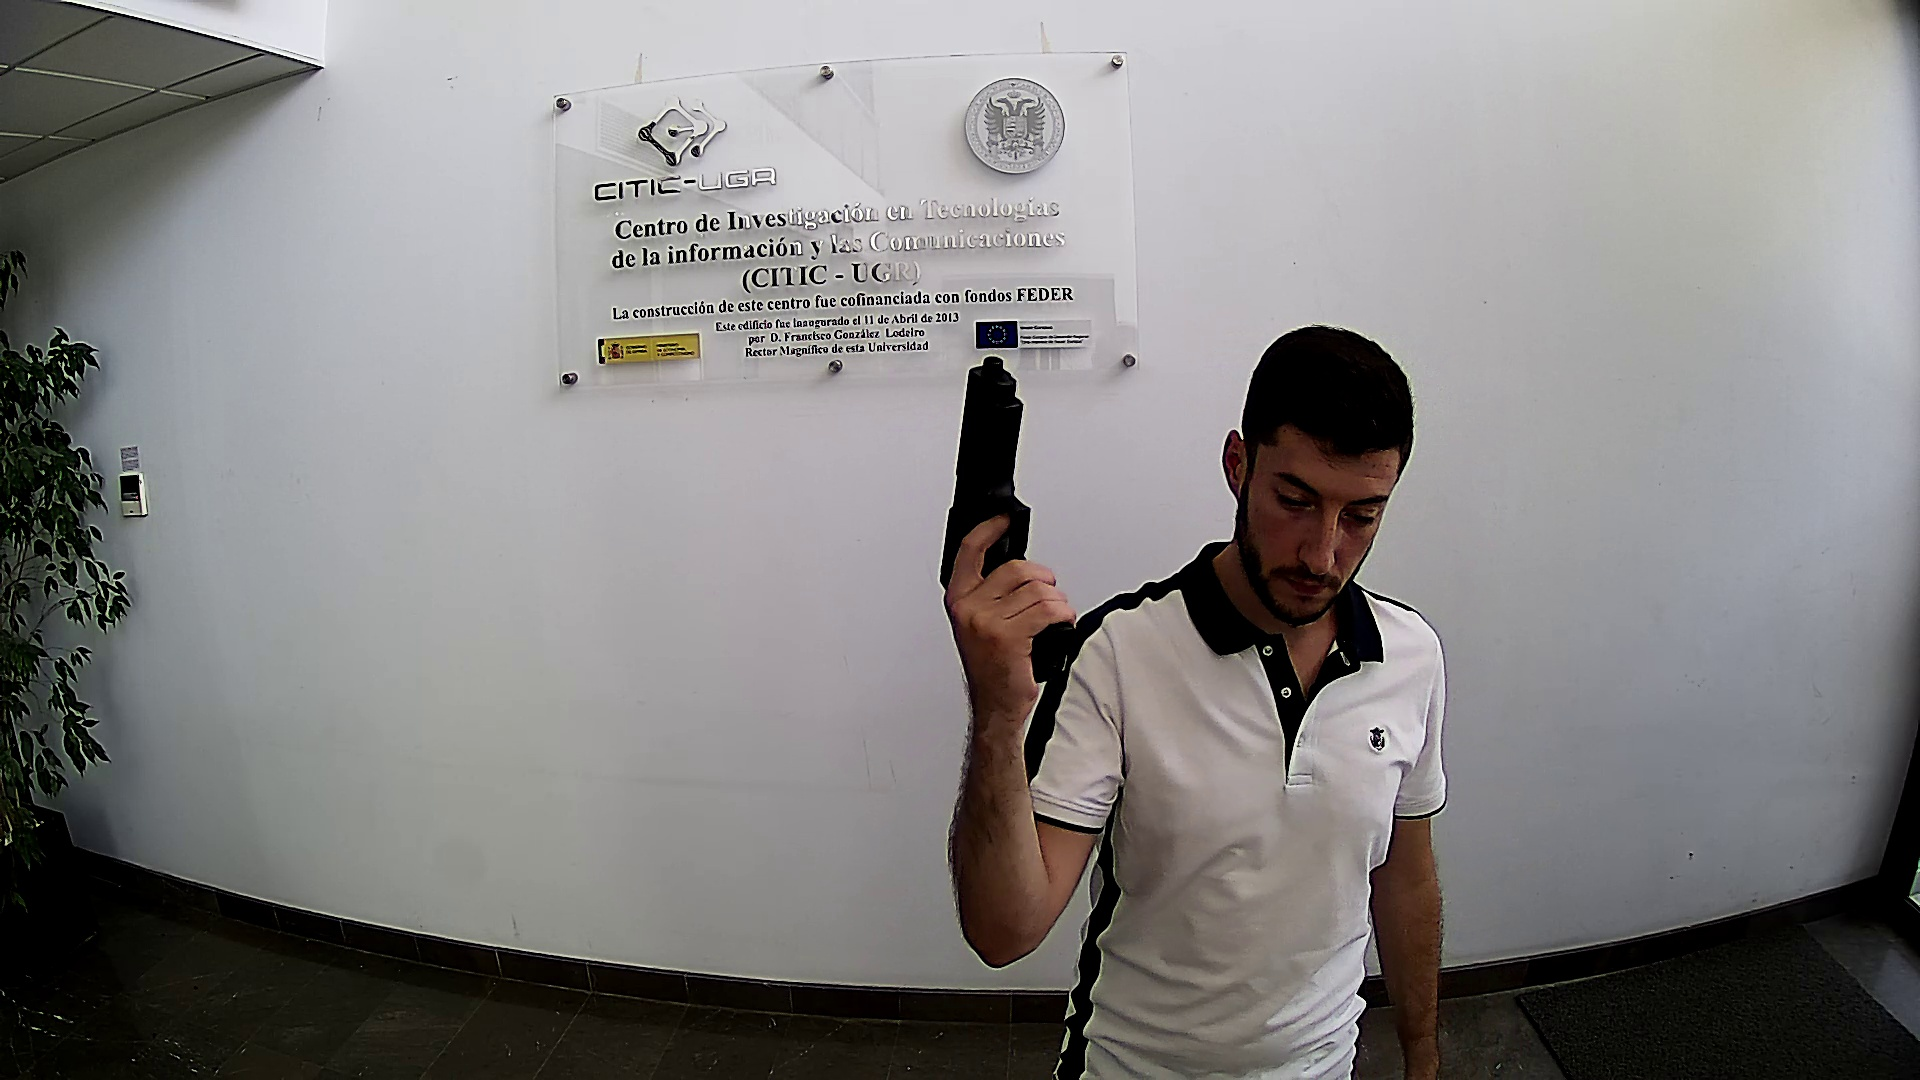pistol: (938, 353, 1077, 684)
